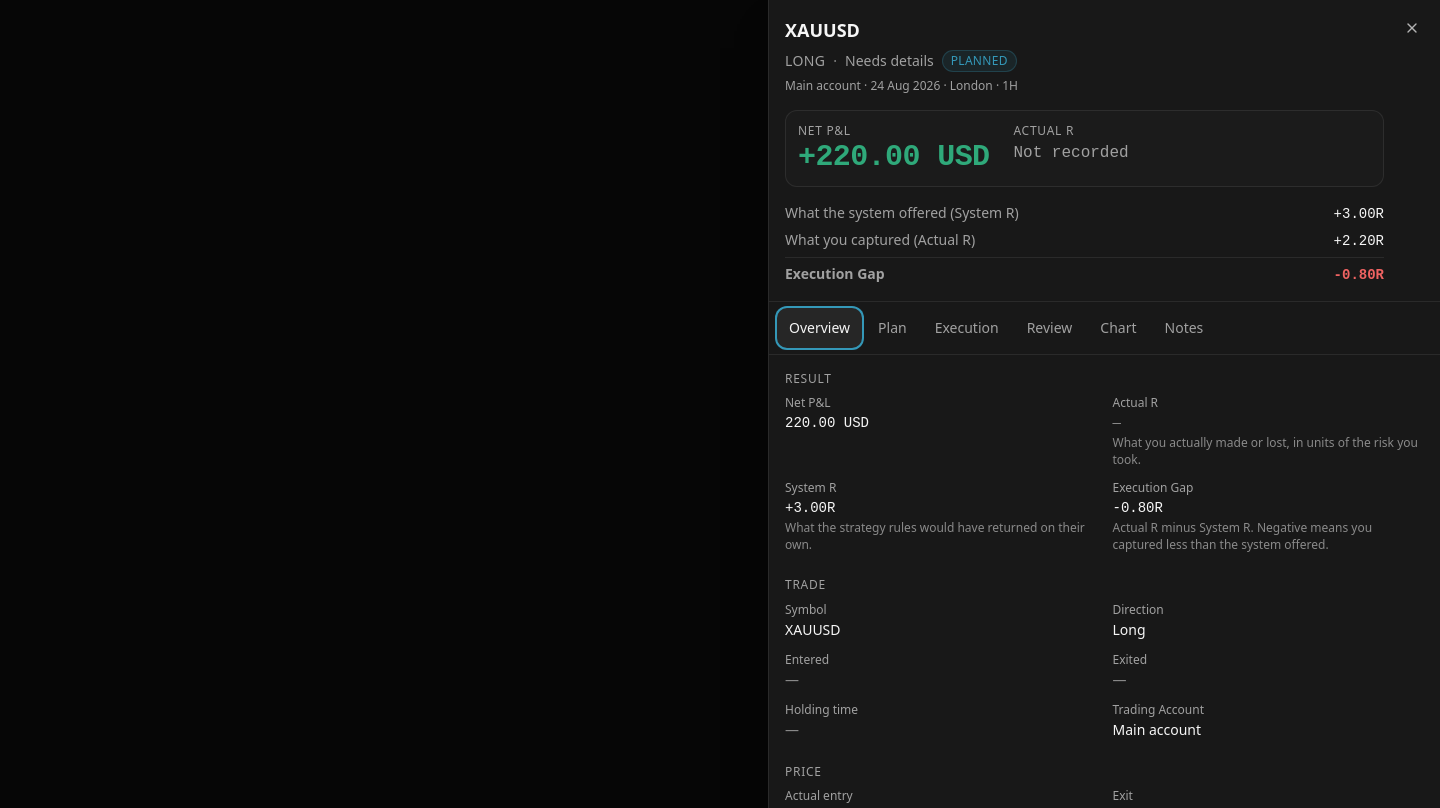
Test case: Trade Details — Execution › offers an honest empty state rather than inventing events
This screenshot has width=1440, height=808.
Click the tab "Execution" at (967, 328), box [923,308,1011,348]
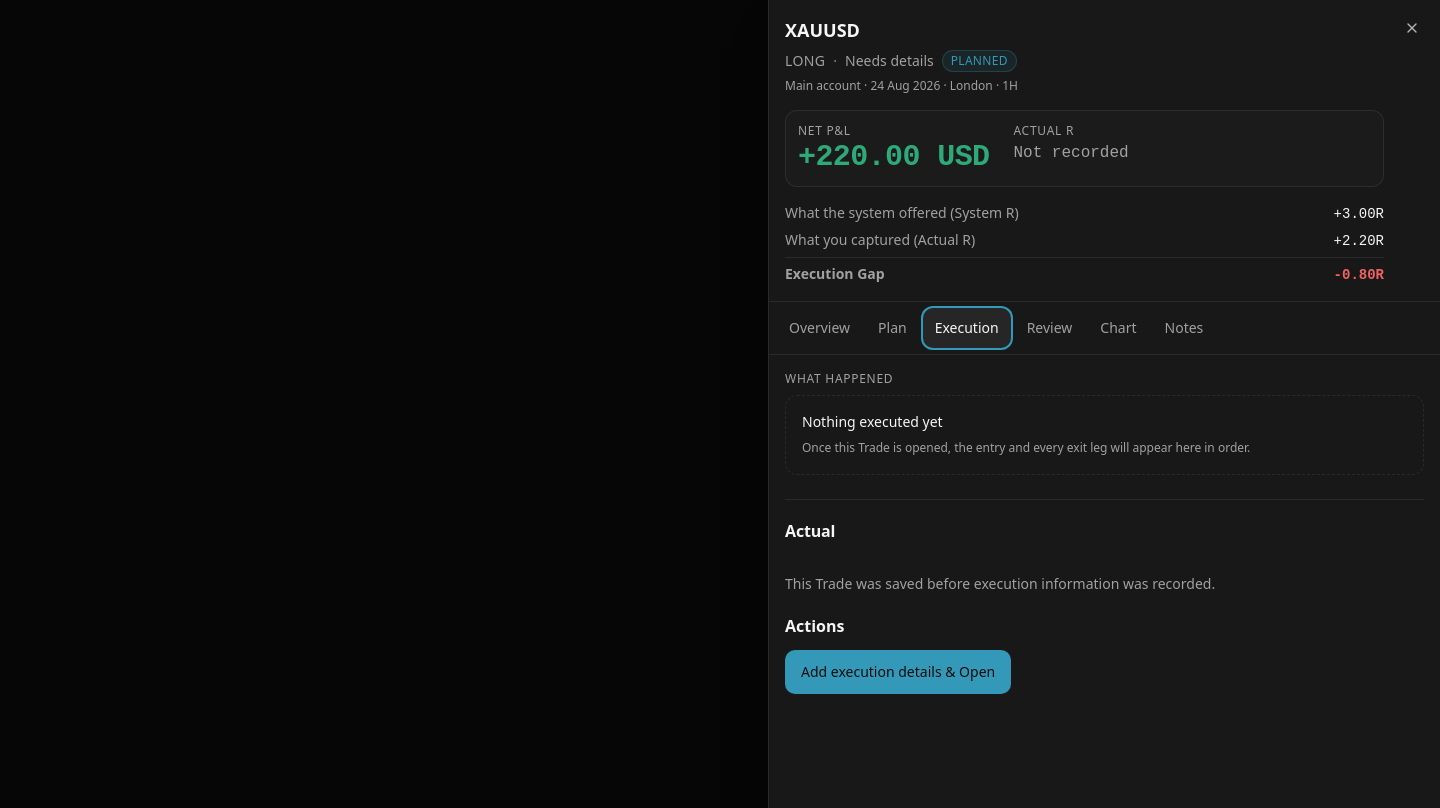
expect the text "Nothing executed yet" is shown: met, box [802,412,943,432]
